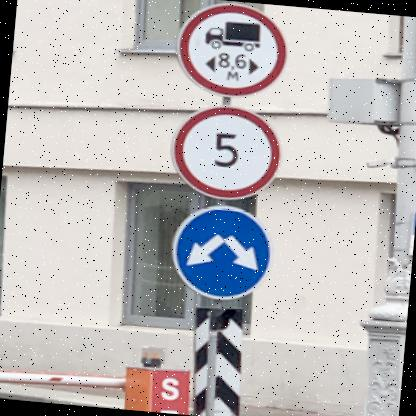speedlimit: (164, 100, 284, 204)
